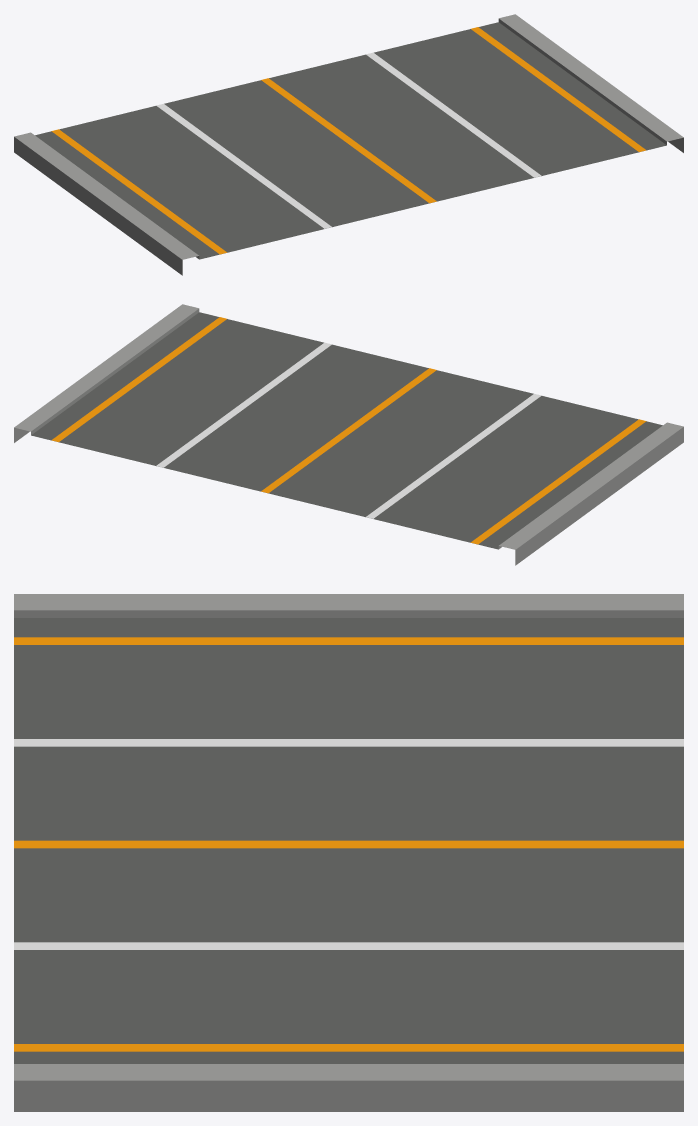
File: Road_B_2L_2_2.fbx
3 renders of one model, top to bottom at view 1: azimuth 30°, elevation 25°; view 2: azimuth 150°, elevation 25°; view 3: azimuth 270°, elevation 25°, orthographic. The views are drawn at different scales.
Parts seen in each view (by area): view 1: Road_B_2L_2_2; view 2: Road_B_2L_2_2; view 3: Road_B_2L_2_2.
Boxes of the visible parts, left/top/right/bottom form: Road_B_2L_2_2: left=14, top=14, right=683, bottom=275; Road_B_2L_2_2: left=14, top=304, right=683, bottom=565; Road_B_2L_2_2: left=14, top=594, right=683, bottom=1111.
Bounding box in the file's own units: 1375 × 41.48 × 800.
